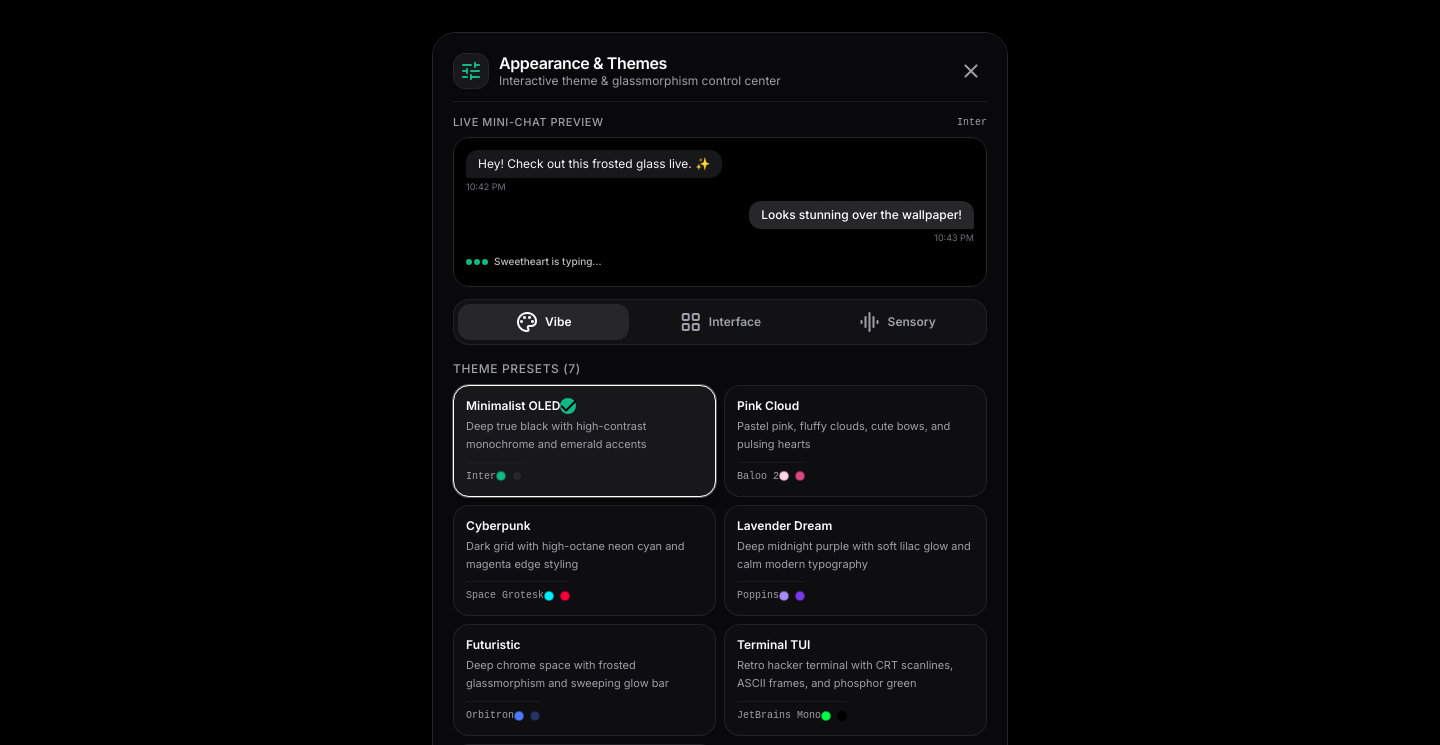
it: ThemeSettingsModal Component › allows adjusting frost level in Interface tab, and locks at 0% when Terminal TUI is active
This screenshot has width=1440, height=745.
Click the button "Interface": (720, 322) [635,304,805,340]
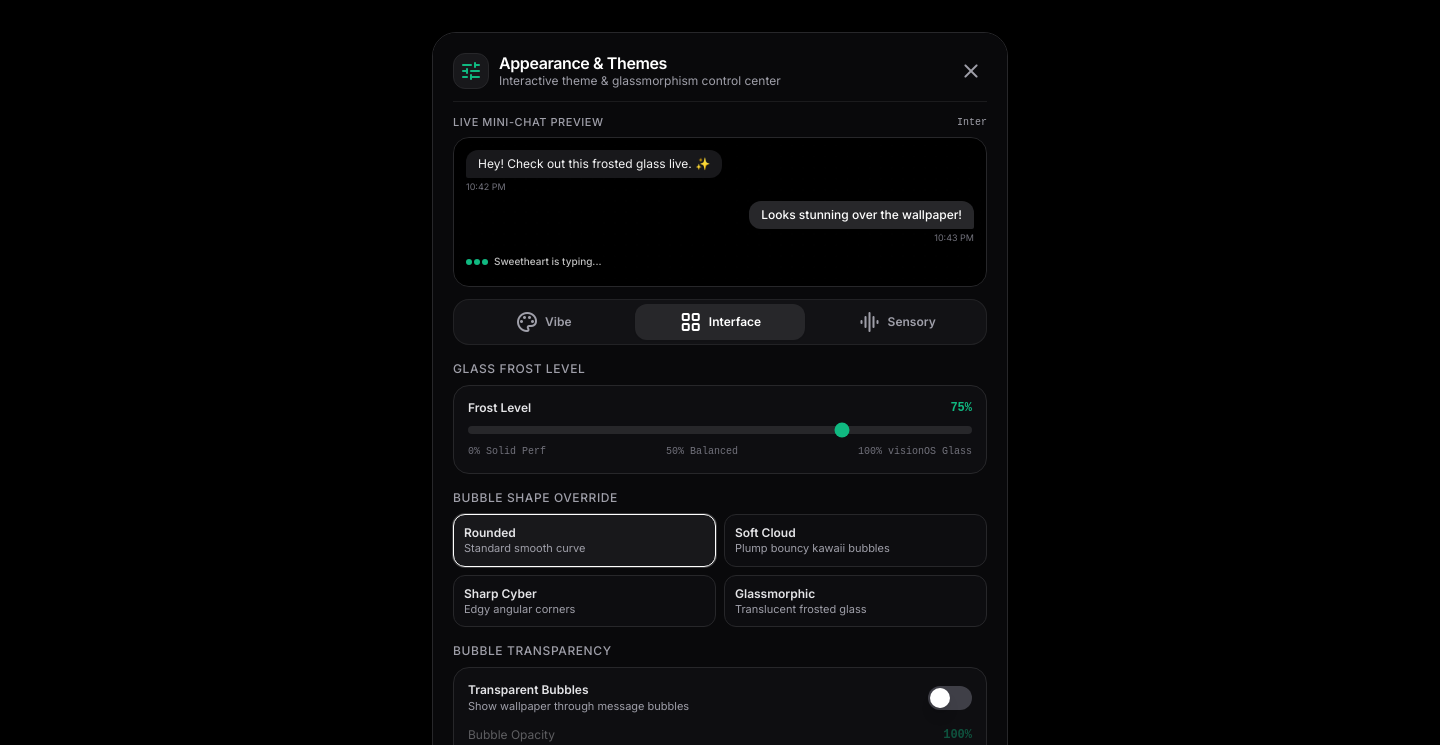
Expected: the text "Glass Frost Level" is shown, [453,361,585,376]
Expected: the slider named "glass frost" is shown, [468,426,972,434]
Now switch to vibe tab and pick Terminal TUI
Click the button "Vibe": (543, 322) [458,304,629,340]
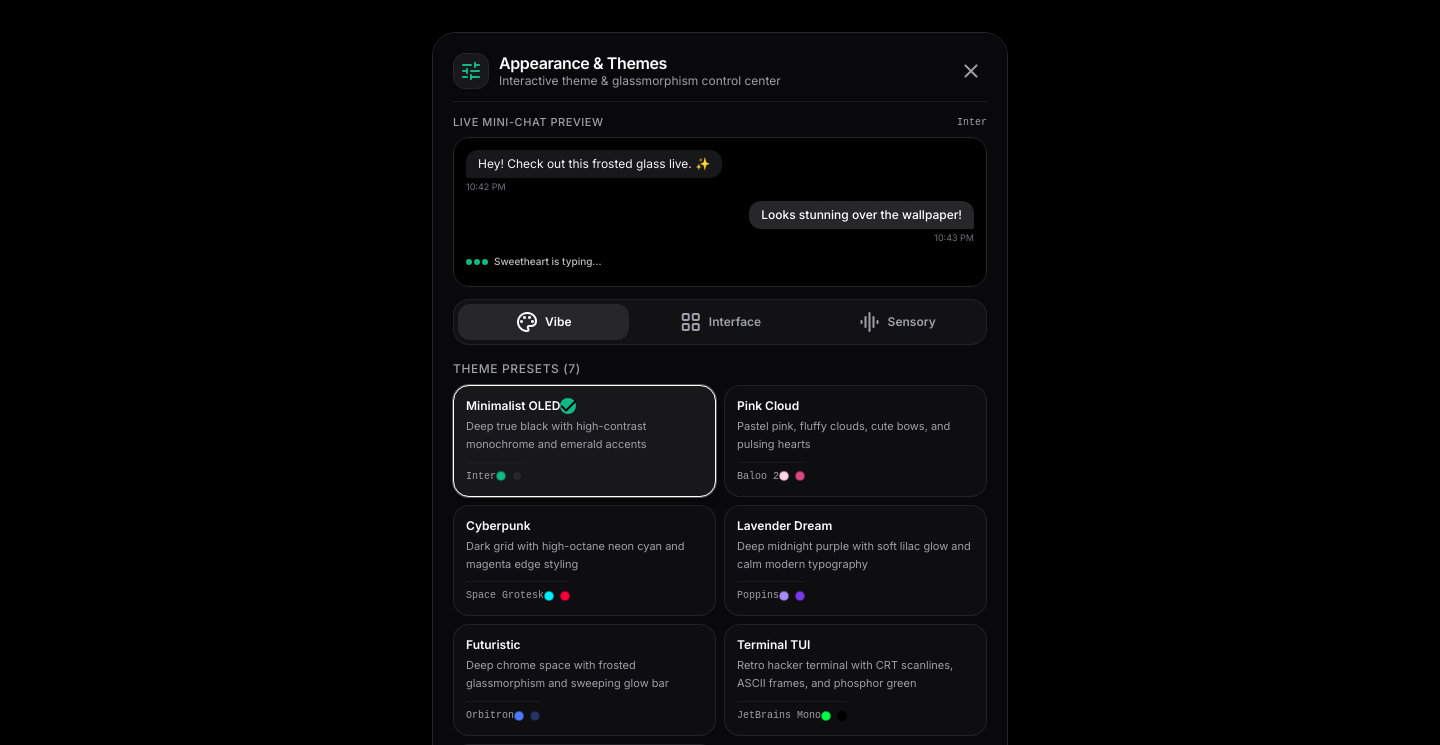
Click the button "Terminal TUI": (856, 680) [724,624,987,736]
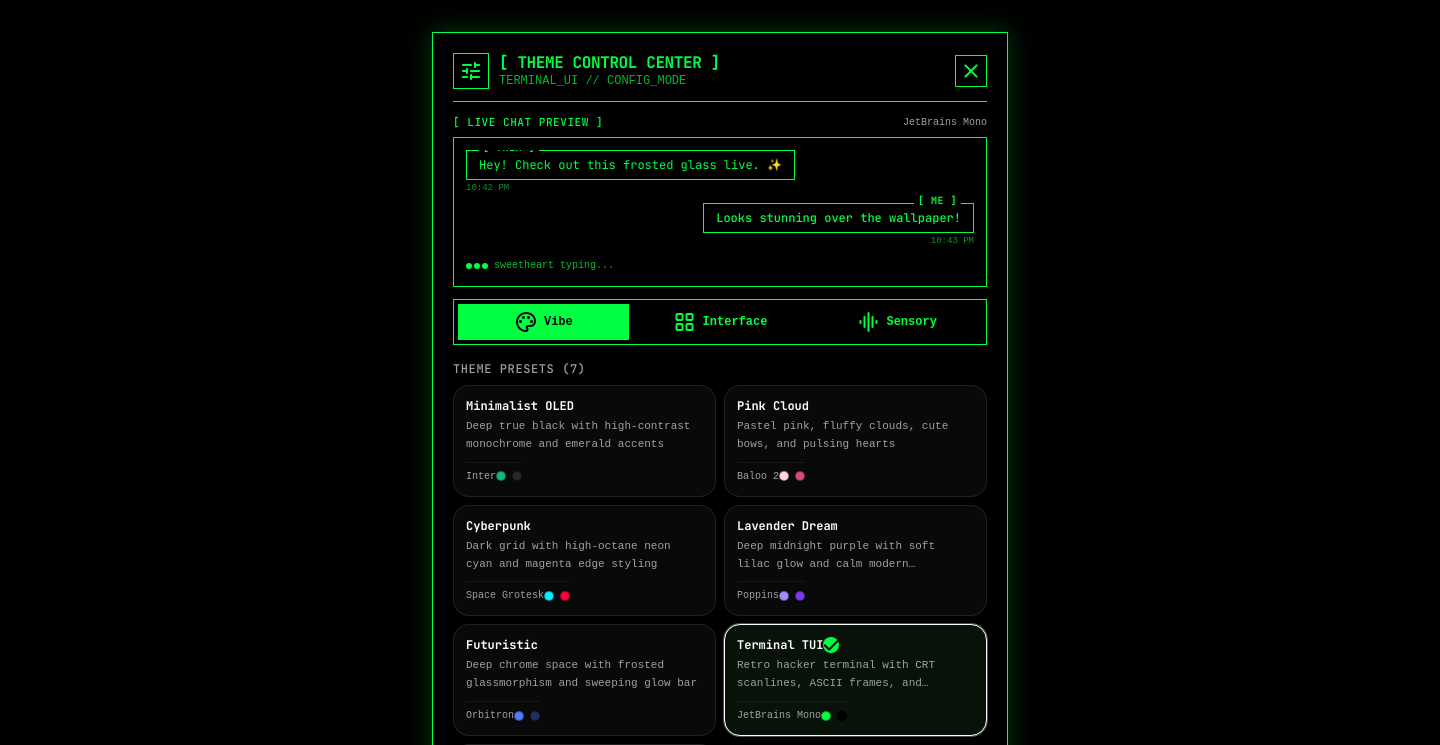
Switch back to interface tab
Click the button "Interface": (720, 322) [635,304,805,340]
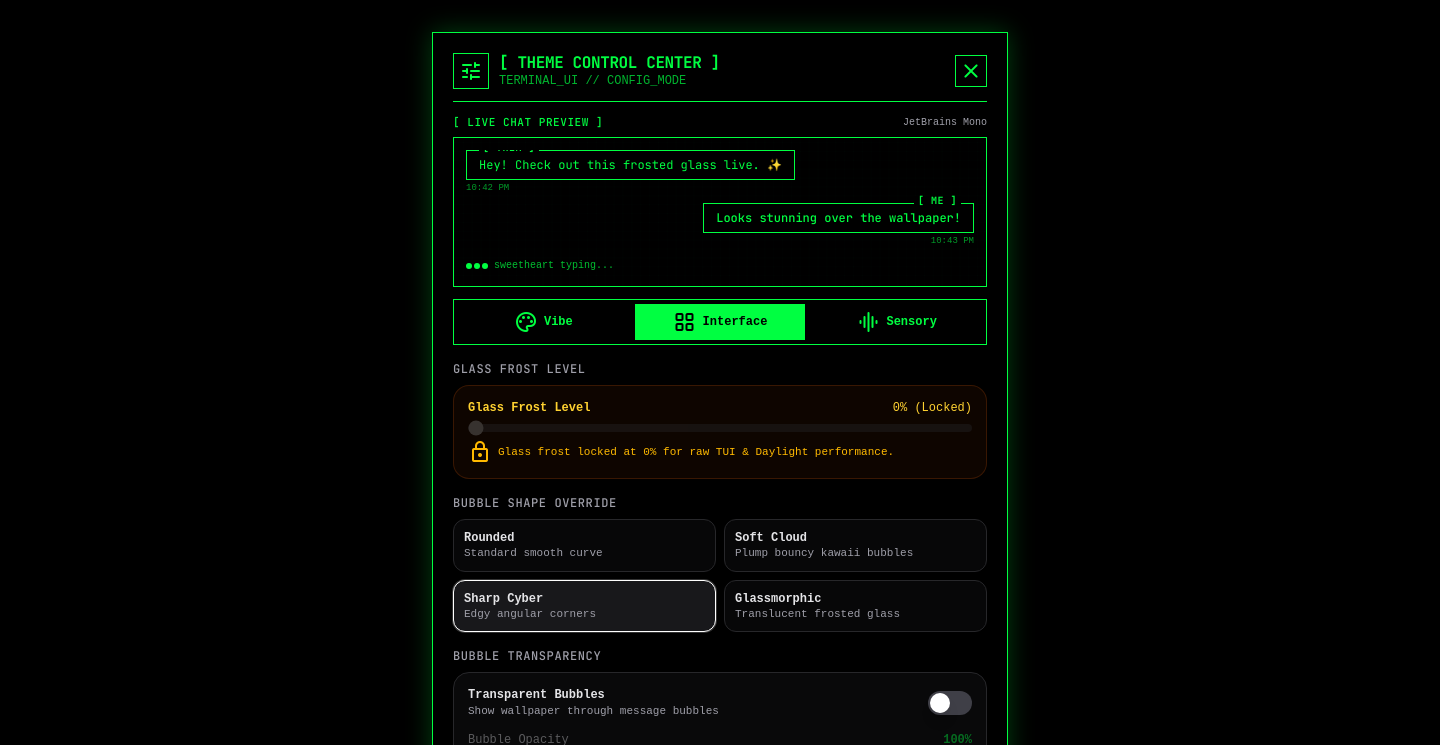
Expected: the text "Glass frost locked at 0% for raw TUI & Daylight performance." is shown, [498,444,894,460]
Expected: the slider named "glass frost" is disabled, [468,424,972,432]
